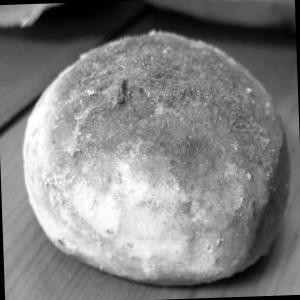bread: (27, 23, 284, 286)
